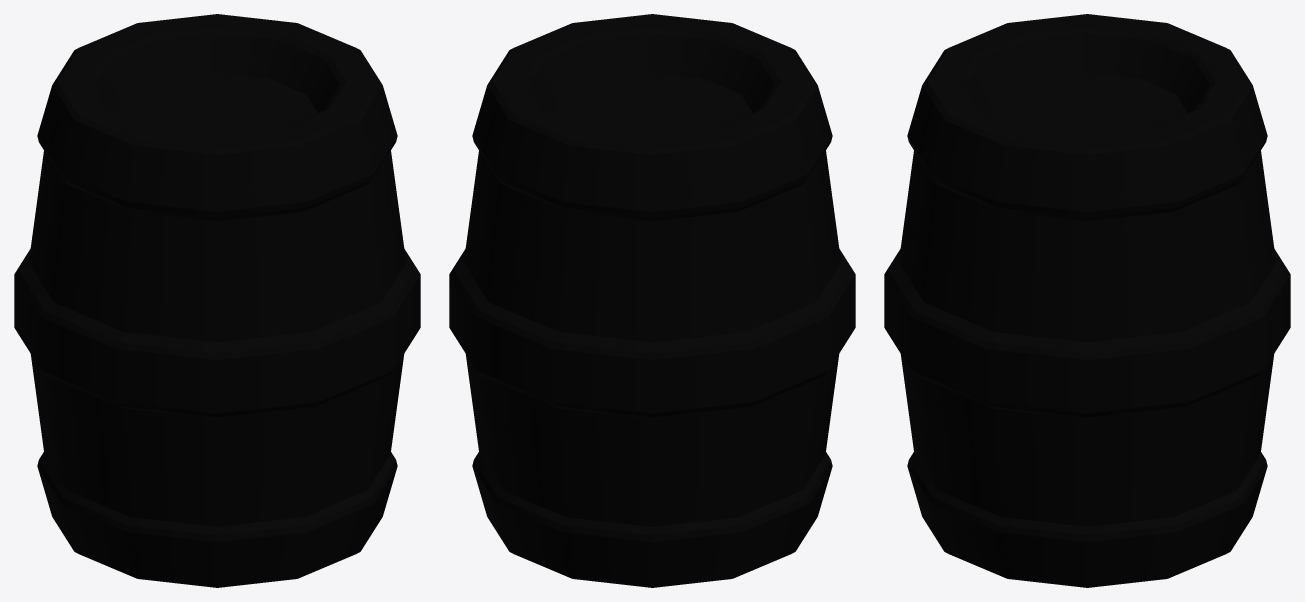
File: wooden_barrel.fbx
The picture shows the model from 3 angles, left to right: view 1: azimuth 30°, elevation 25°; view 2: azimuth 150°, elevation 25°; view 3: azimuth 270°, elevation 25°; orthographic projection.
Parts seen in each view (by area): view 1: Cylinder.014; view 2: Cylinder.014; view 3: Cylinder.014.
Boxes of the visible parts, x1=… form: Cylinder.014: x1=14, y1=14, x2=420, y2=587; Cylinder.014: x1=449, y1=14, x2=855, y2=587; Cylinder.014: x1=884, y1=14, x2=1290, y2=587.
Size of the model in its own units: 204 by 243 by 204.
